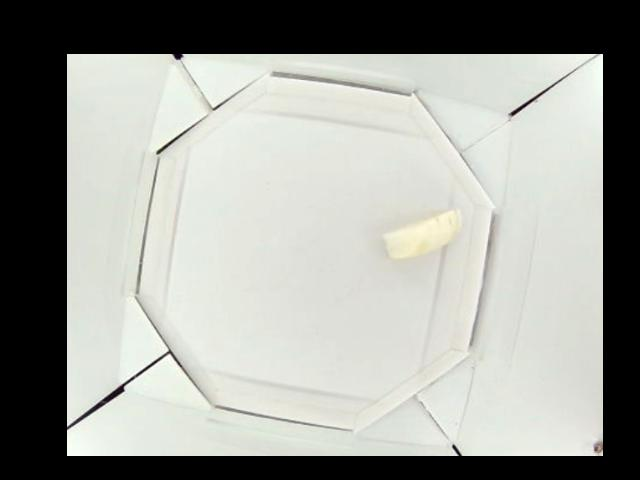Mooli: (383, 205, 462, 261)
